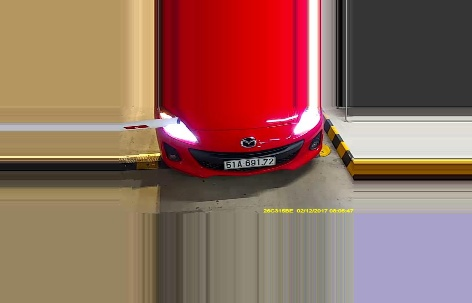plate: (223, 154, 273, 172)
